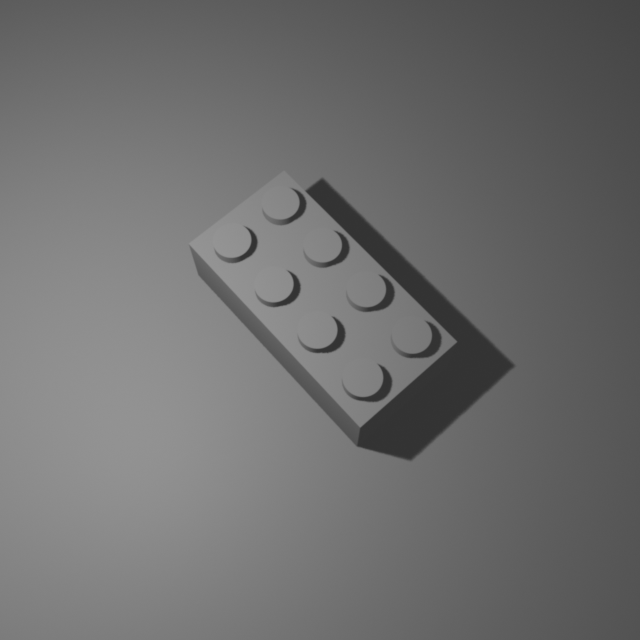lego_2x4: (187, 164, 459, 447)
